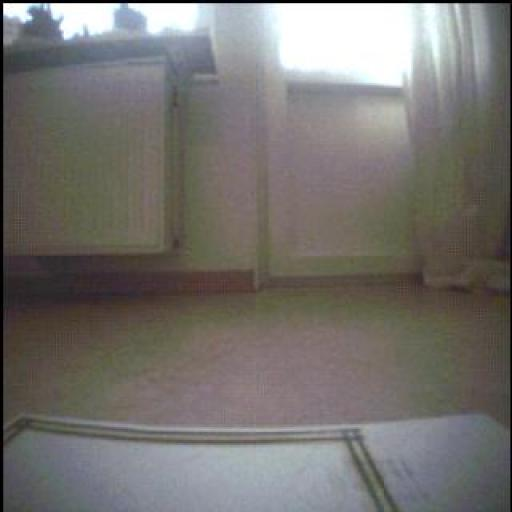Pad: (1, 408, 510, 512)
